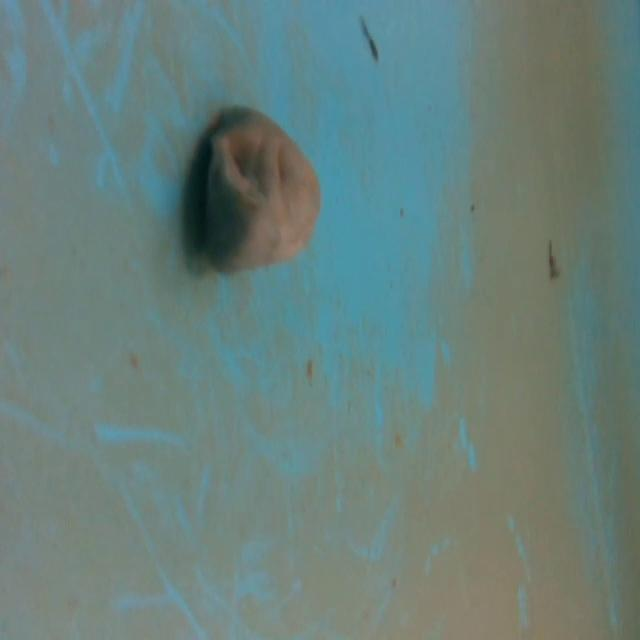rock: (186, 110, 324, 286)
